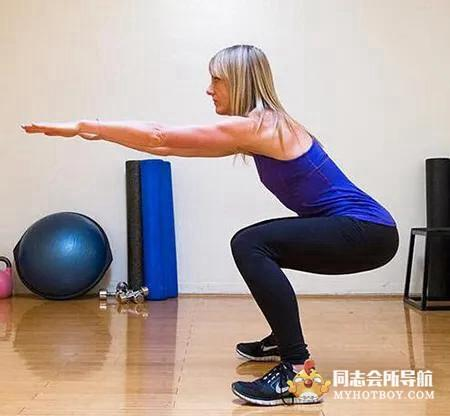Squat: (16, 39, 401, 401)
